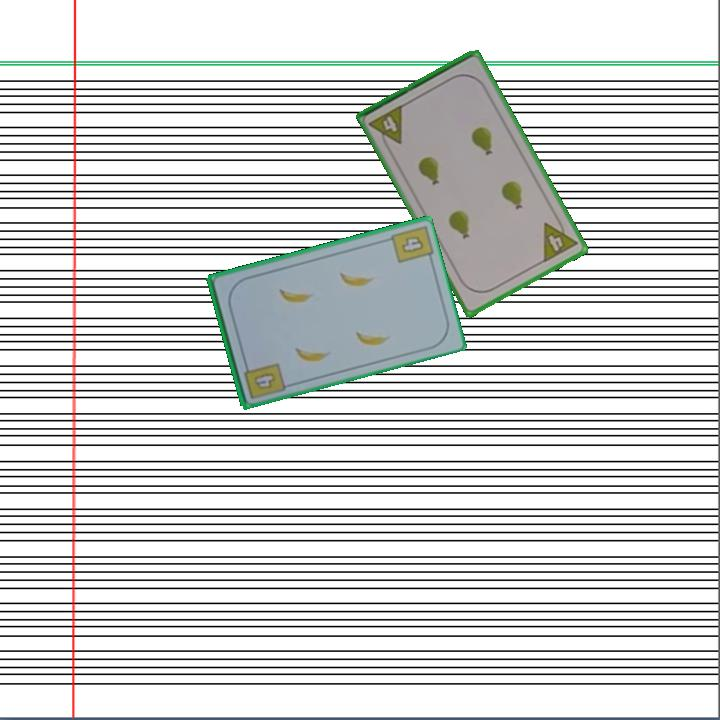4b: (240, 358, 287, 402), (398, 232, 427, 256)
4p: (540, 213, 581, 265), (365, 101, 406, 152)
